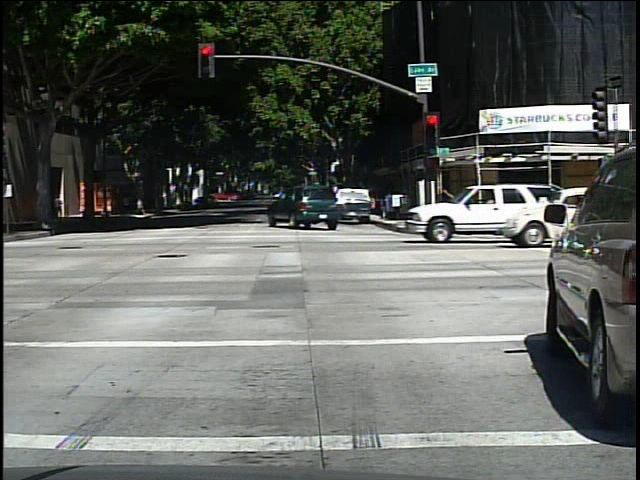person: (54, 189, 66, 223)
